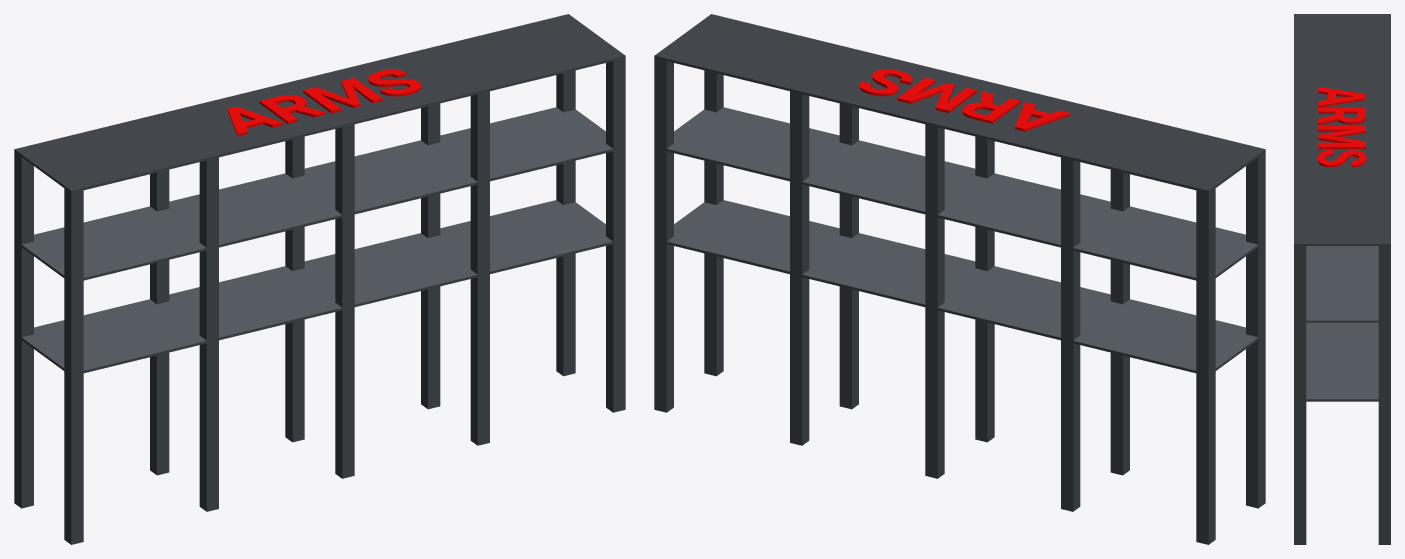
The model's file is racks.dae.
3 renders of one model, left to right at view 1: azimuth 30°, elevation 25°; view 2: azimuth 150°, elevation 25°; view 3: azimuth 270°, elevation 25°, orthographic. The views are drawn at different scales.
Parts seen in each view (by area): view 1: ID2; view 2: ID2; view 3: ID2.
Boxes of the visible parts, <box> form: ID2: <box>14,14,625,544</box>; ID2: <box>654,14,1265,544</box>; ID2: <box>1294,14,1390,544</box>.
Size of the model in its own units: 1.12 by 0.2 by 0.692.
